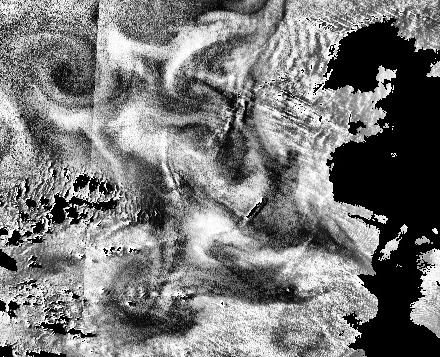AE: (27, 33, 98, 106)
